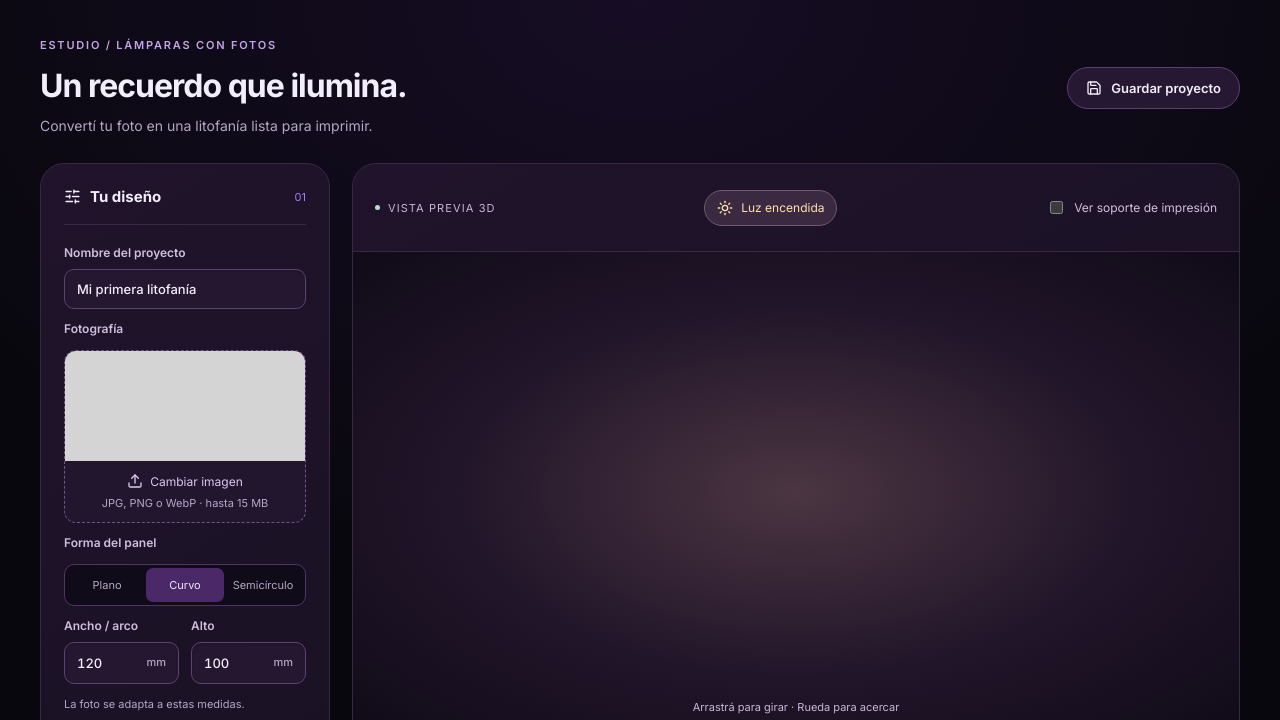
Test: cambia la forma del panel y guarda los ajustes actuales
expect the button "Guardar proyecto" is enabled: met, box [1067,67,1240,109]
Click the button "Plano".
click(107, 585)  # box [68,568,146,602]
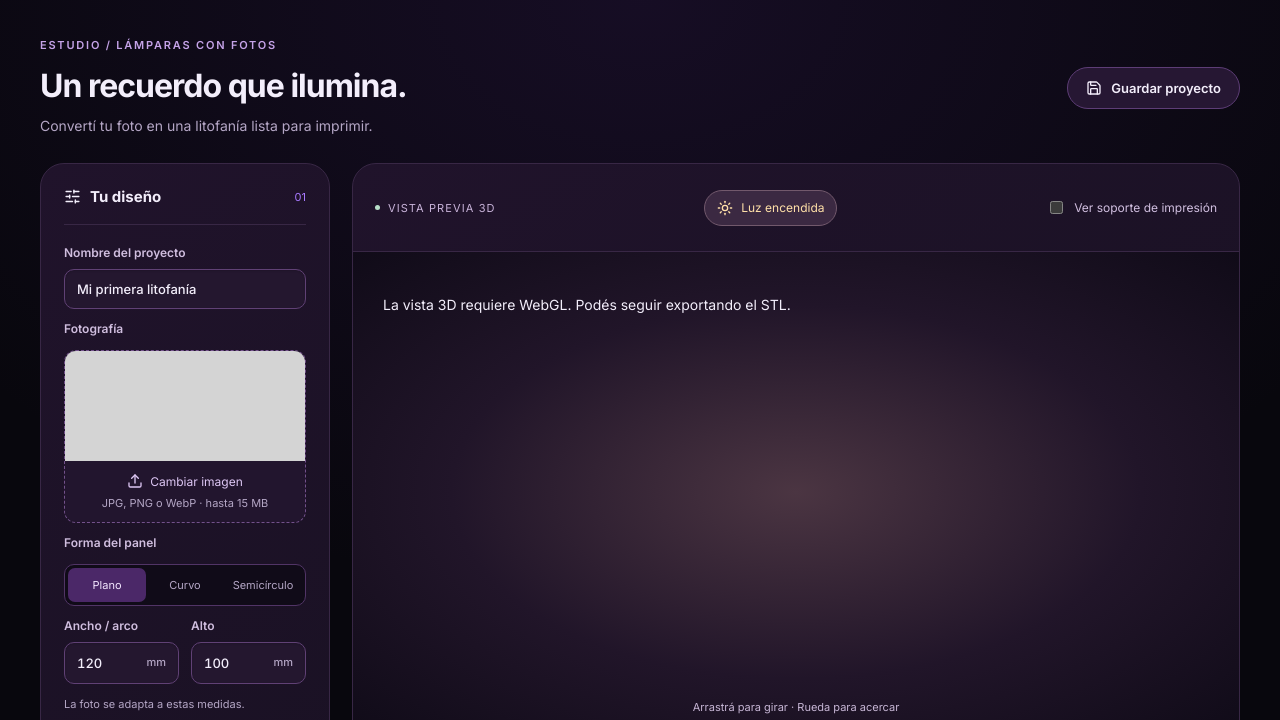
Click the button "Guardar proyecto".
click(1154, 88)  # box [1067,67,1240,109]
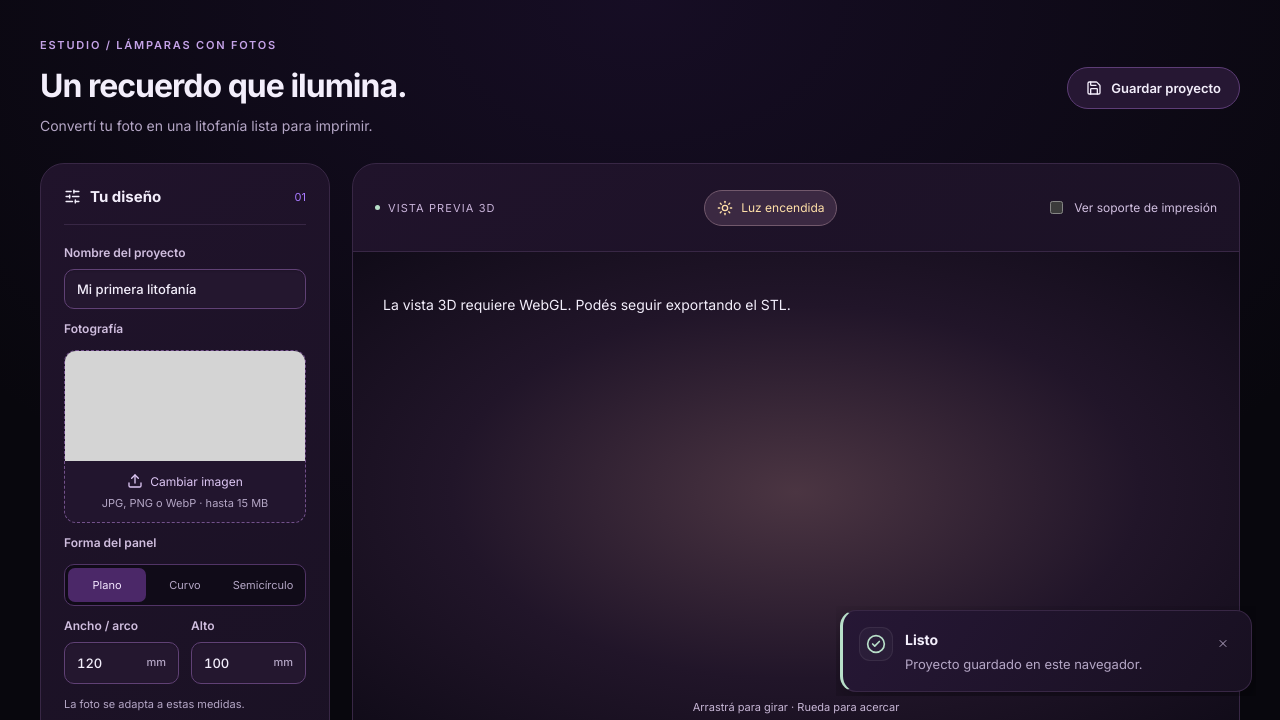
expect the text "Proyecto guardado en este navegador." is shown: met, box [905,656,1142,672]
